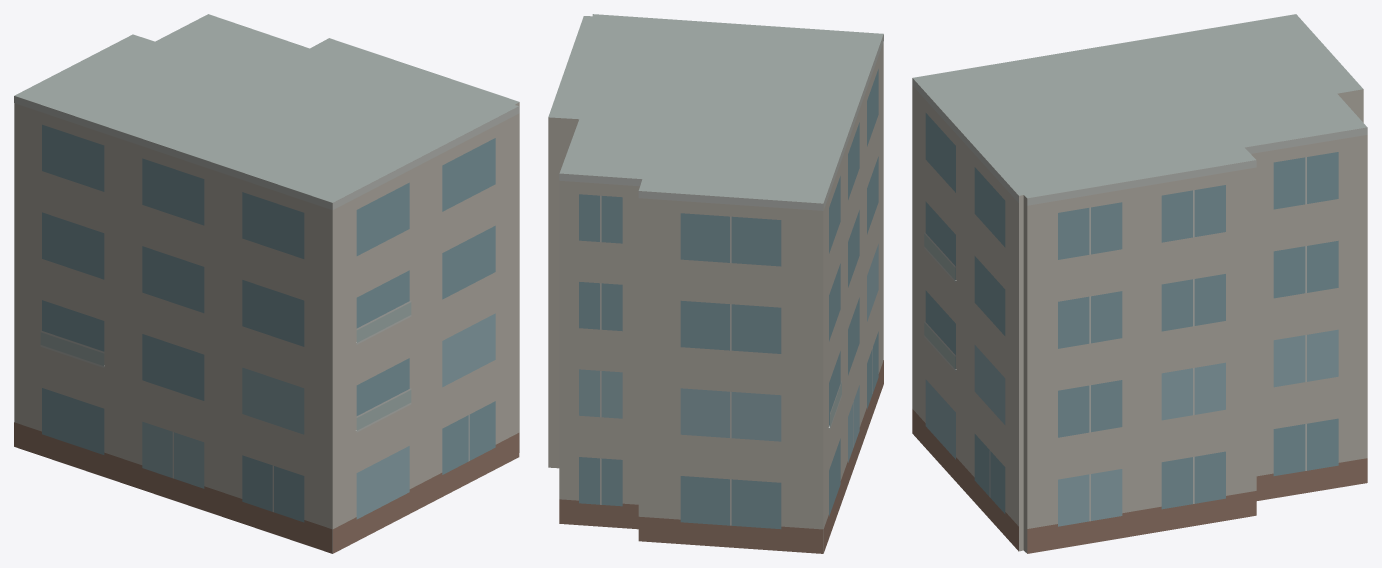
The model's file is survey-upis-32836185.glb.
3 renders of one model, left to right at view 1: azimuth 30°, elevation 25°; view 2: azimuth 150°, elevation 25°; view 3: azimuth 270°, elevation 25°, orthographic.
Visible parts, largest first — view 1: survey-upis-32836185.tmp; view 2: survey-upis-32836185.tmp; view 3: survey-upis-32836185.tmp.
Boxes of the visible parts, box(x1,y1,x2,y2) form: survey-upis-32836185.tmp: box(14, 14, 519, 553); survey-upis-32836185.tmp: box(548, 14, 883, 553); survey-upis-32836185.tmp: box(912, 14, 1367, 553).
Size of the model in its own units: 13.02 by 11.7 by 13.58.
